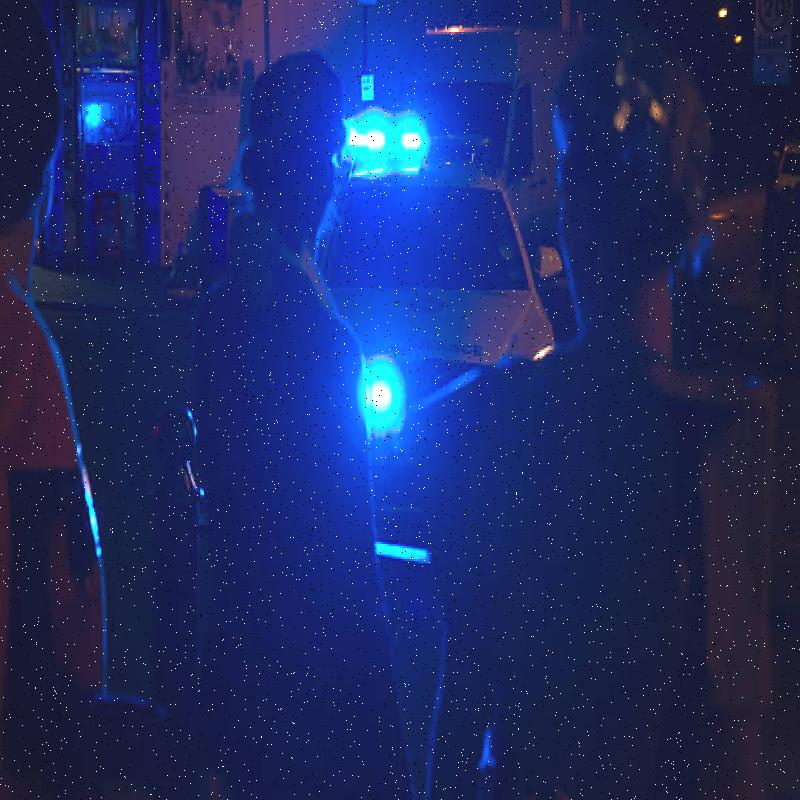AmbulanceSiren: (331, 92, 419, 180)
